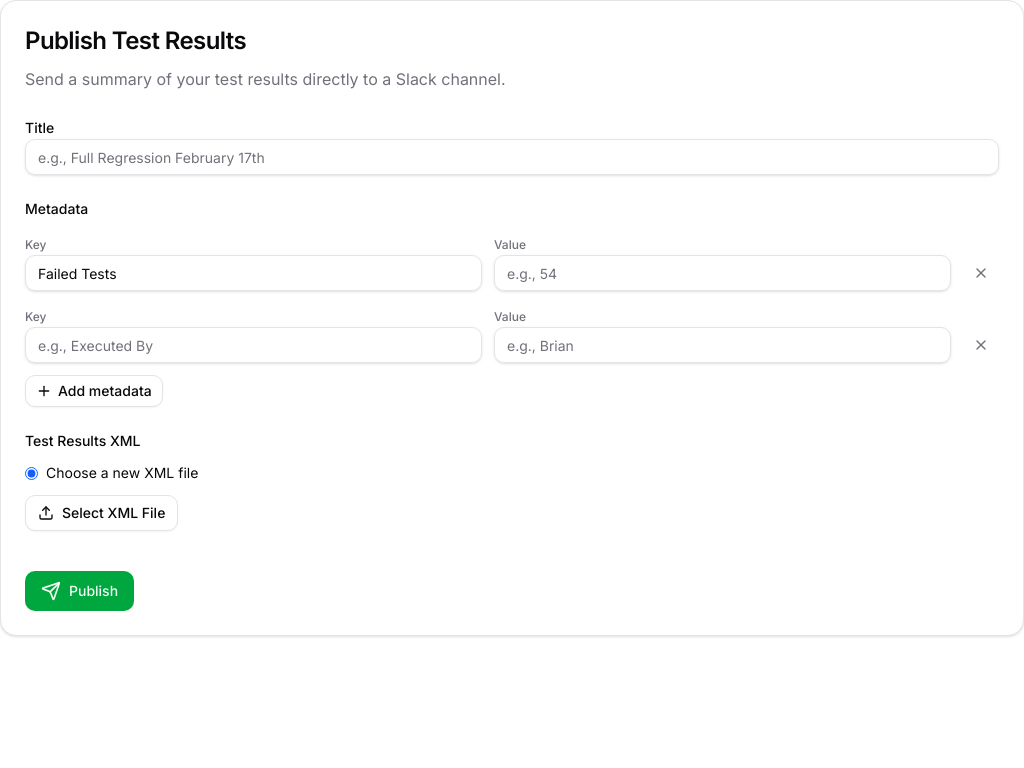
Test case: PublishPage › should show error when publishing without XML
The image size is (1024, 768).
Type "My Title" into the field labelled "Title" at (512, 157), box left=25, top=139, right=999, bottom=175
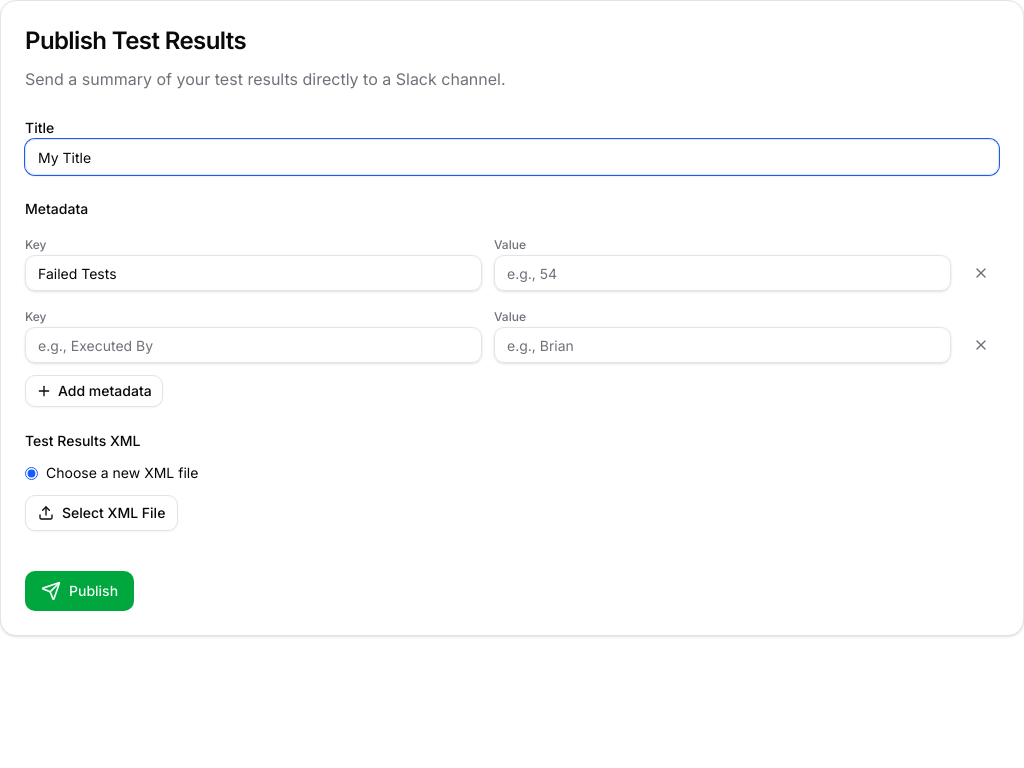
Click the button "Publish" at (80, 591), box left=25, top=571, right=134, bottom=611
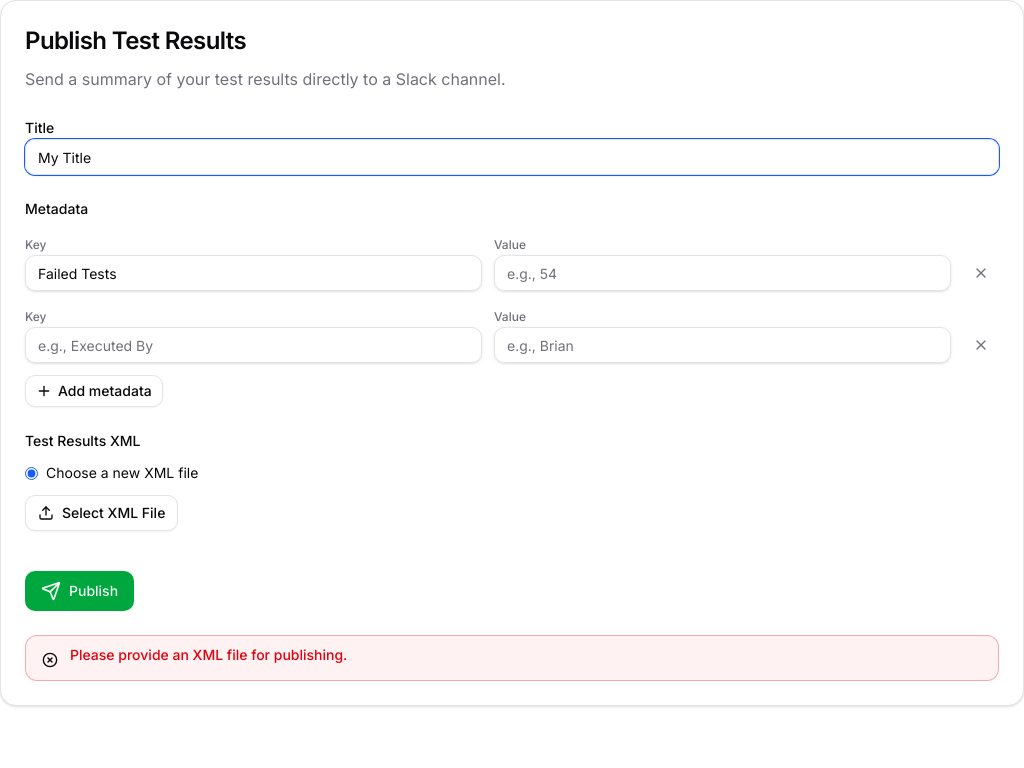
Expected: the text "Please provide an XML file for publishing." is shown, left=70, top=646, right=347, bottom=663
